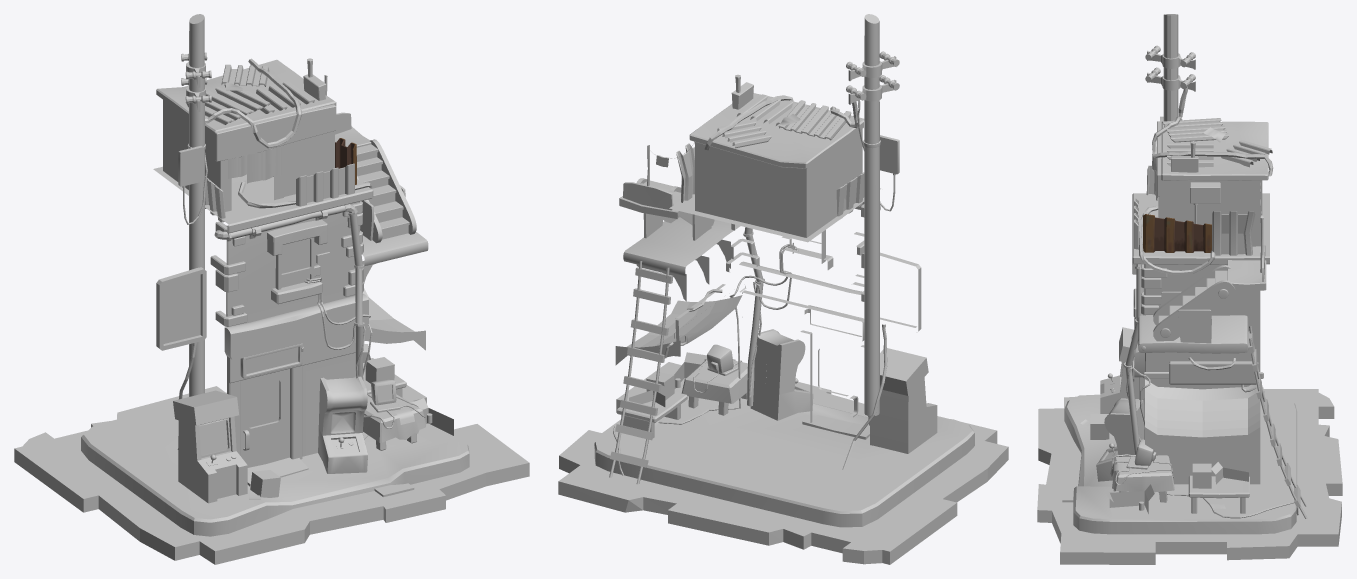
File: gltf.gltf
3 renders of one model, left to right at view 1: azimuth 30°, elevation 25°; view 2: azimuth 150°, elevation 25°; view 3: azimuth 270°, elevation 25°, orthographic. The views are drawn at different scales.
Visible parts, largest first — view 1: Box011, Object006, Box010, Box033, Box096, Box012, Box099, Cylinder002, Box083, Box116, Box034, Box035 (+21 smaller); view 2: Object006, Box011, Box033, Cylinder002, Box035, Box099, Box096, Box008, Plane002, Box105, Box097, Box076 (+18 smaller); view 3: Box011, Object006, Plane002, Box010, Box033, Box035, Box008, Box116, Box221, Box070, Box099, Box215 (+23 smaller).
Boxes of the visible parts, bbox=[...] form: Box011: bbox=[14, 385, 529, 564]; Object006: bbox=[81, 392, 469, 536]; Box010: bbox=[226, 201, 363, 467]; Box033: bbox=[163, 100, 334, 211]; Box096: bbox=[178, 416, 247, 503]; Box012: bbox=[224, 294, 368, 359]; Box099: bbox=[318, 376, 367, 473]; Cylinder002: bbox=[189, 14, 204, 396]; Box083: bbox=[156, 267, 206, 350]; Box116: bbox=[153, 148, 373, 233]; Box034: bbox=[214, 104, 336, 161]; Box035: bbox=[156, 59, 336, 137]; Object006: bbox=[594, 396, 974, 527]; Box011: bbox=[558, 362, 1008, 564]; Box033: bbox=[695, 129, 862, 237]; Cylinder002: bbox=[864, 14, 879, 416]; Box035: bbox=[689, 93, 863, 168]; Box099: bbox=[750, 329, 813, 420]; Box096: bbox=[870, 377, 937, 453]; Box008: bbox=[623, 217, 740, 276]; Plane002: bbox=[615, 295, 742, 365]; Box105: bbox=[681, 359, 747, 403]; Box097: bbox=[880, 348, 928, 395]; Box076: bbox=[778, 100, 851, 140]; Box011: bbox=[1037, 389, 1342, 564]; Object006: bbox=[1064, 394, 1297, 534]; Plane002: bbox=[1145, 379, 1260, 454]; Box010: bbox=[1139, 264, 1260, 484]; Box033: bbox=[1158, 180, 1262, 246]; Box035: bbox=[1161, 121, 1268, 180]; Box008: bbox=[1138, 315, 1248, 353]; Box116: bbox=[1132, 193, 1269, 264]; Box221: bbox=[1143, 214, 1211, 252]; Box070: bbox=[1169, 361, 1258, 384]; Box099: bbox=[1096, 398, 1144, 481]; Box215: bbox=[1212, 211, 1255, 255].
Size of the model in its own units: 2.04 by 2.52 by 1.61.
